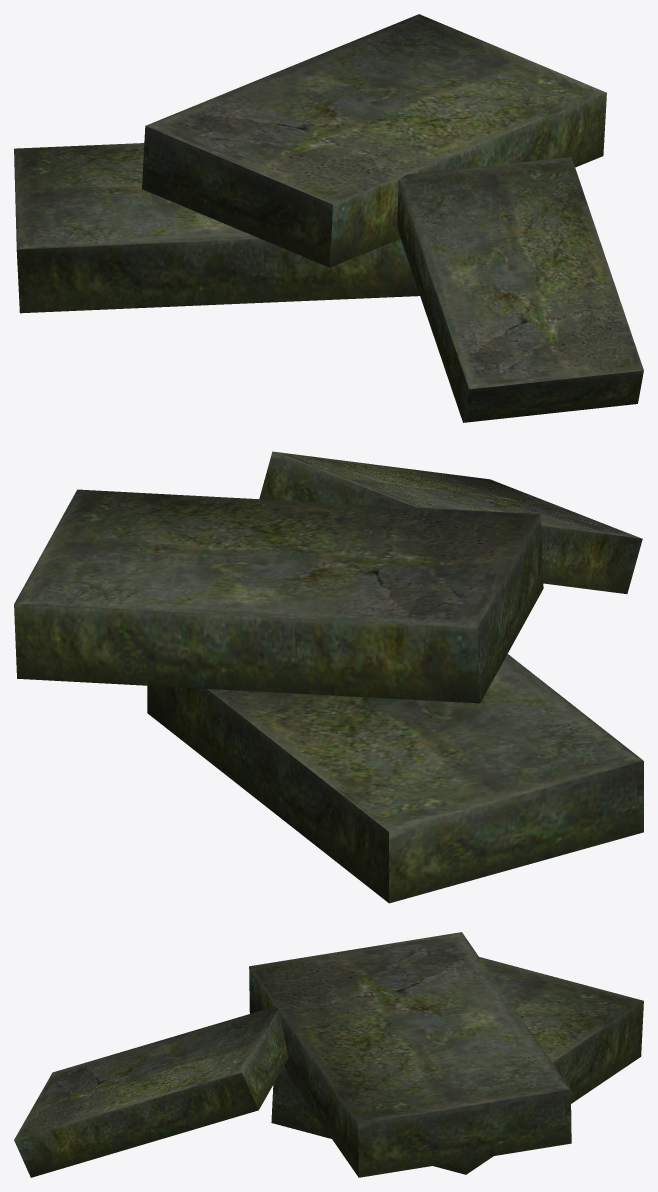
The model's file is fxmg_shitou10.FBX.
3 renders of one model, top to bottom at view 1: azimuth 30°, elevation 25°; view 2: azimuth 150°, elevation 25°; view 3: azimuth 270°, elevation 25°, orthographic. The views are drawn at different scales.
Visible parts, largest first — view 1: KLMSM_shitou10; view 2: KLMSM_shitou10; view 3: KLMSM_shitou10.
Part boxes in pixels (box(x1,y1,x2,y2)): KLMSM_shitou10: box(14, 14, 643, 422); KLMSM_shitou10: box(14, 451, 643, 903); KLMSM_shitou10: box(14, 932, 643, 1177).
Size of the model in its own units: 269 by 75.81 by 310.
